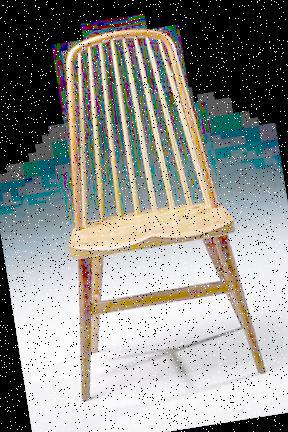Silla: (26, 23, 269, 400)
